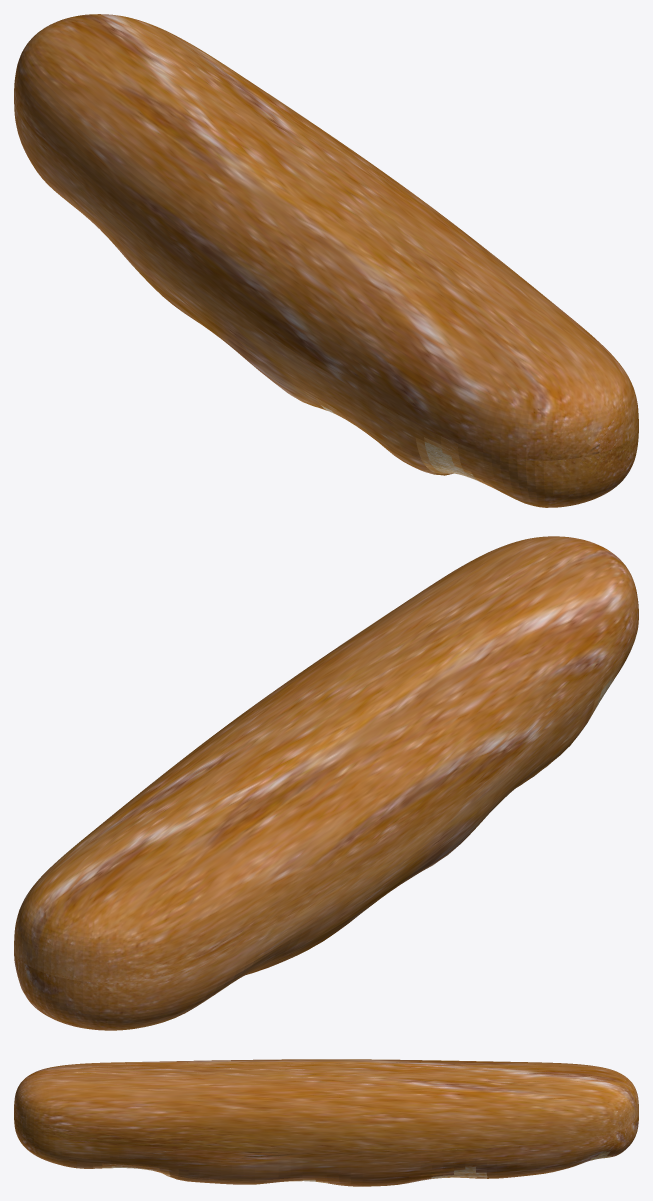
The model's file is bread.fbx.
The picture shows the model from 3 angles, top to bottom: view 1: azimuth 30°, elevation 25°; view 2: azimuth 150°, elevation 25°; view 3: azimuth 270°, elevation 25°; orthographic projection. The views are drawn at different scales.
Visible parts, largest first — view 1: Cube; view 2: Cube; view 3: Cube.
Boxes of the visible parts, <box> form: Cube: <box>14,14,638,507</box>; Cube: <box>14,536,638,1030</box>; Cube: <box>14,1059,638,1186</box>.
Bounding box in the file's own units: 238 × 195 × 1058.
